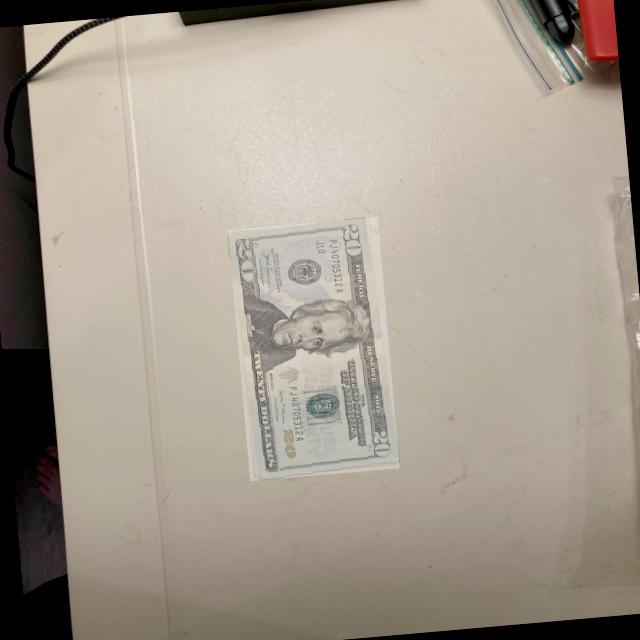twenty: (229, 217, 400, 481)
